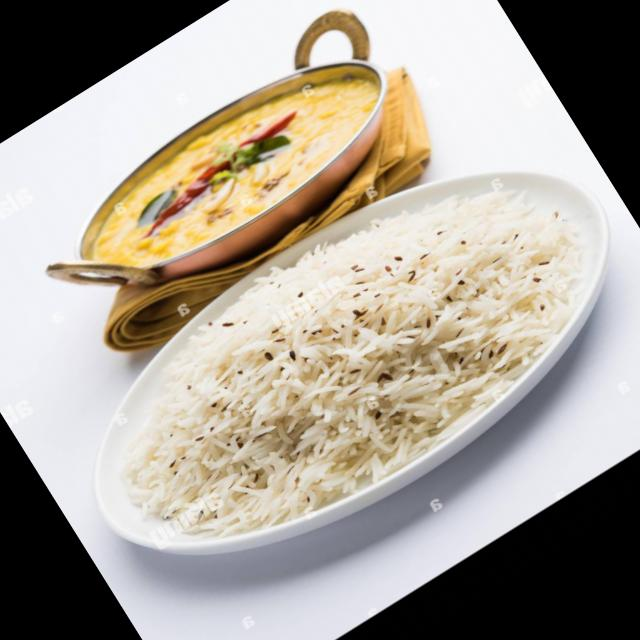dal: (82, 46, 380, 288)
rice: (96, 124, 623, 568)
